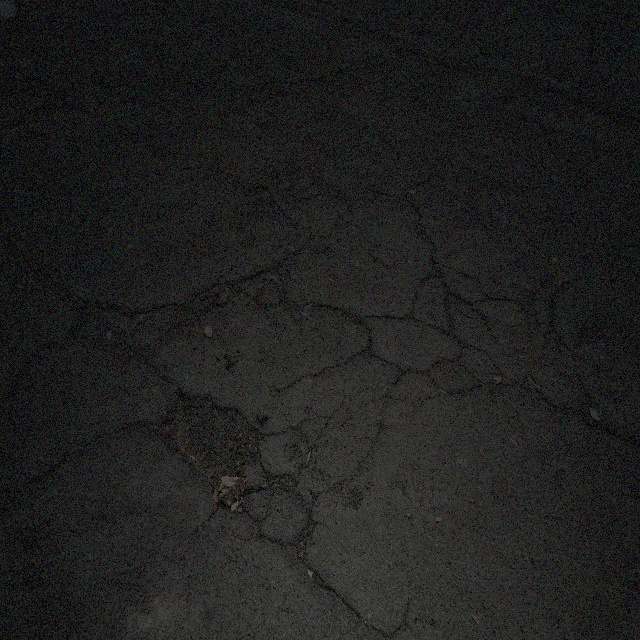pothole: (157, 378, 266, 506)
